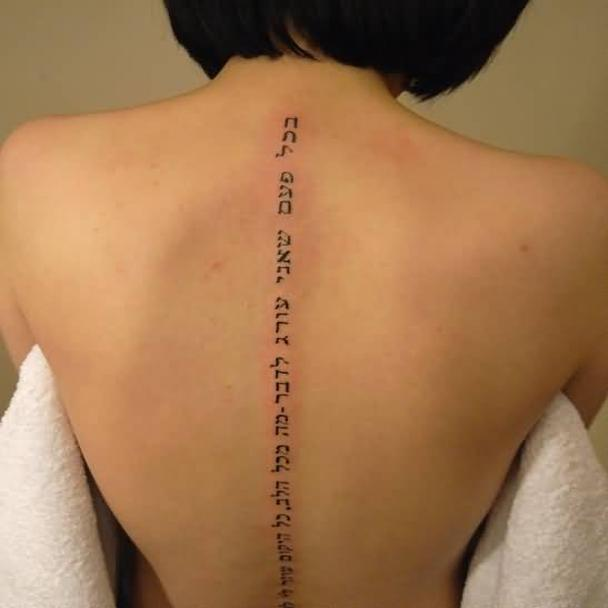tattoos: (269, 113, 298, 608)
